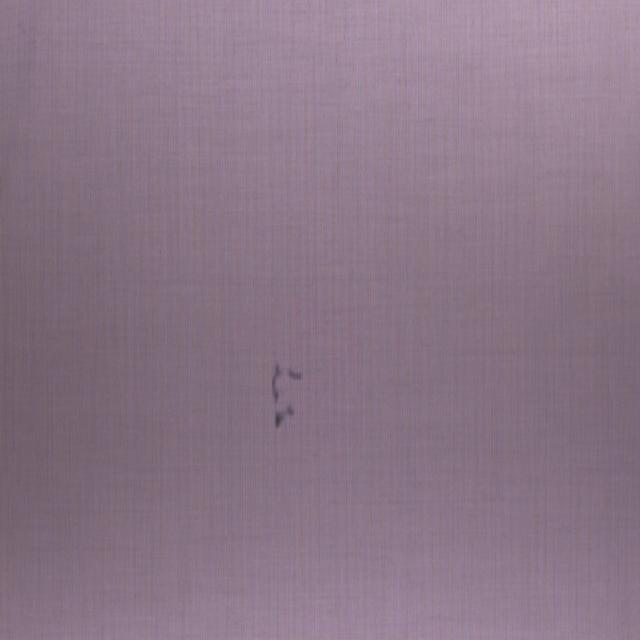dirty: (271, 366, 296, 428)
